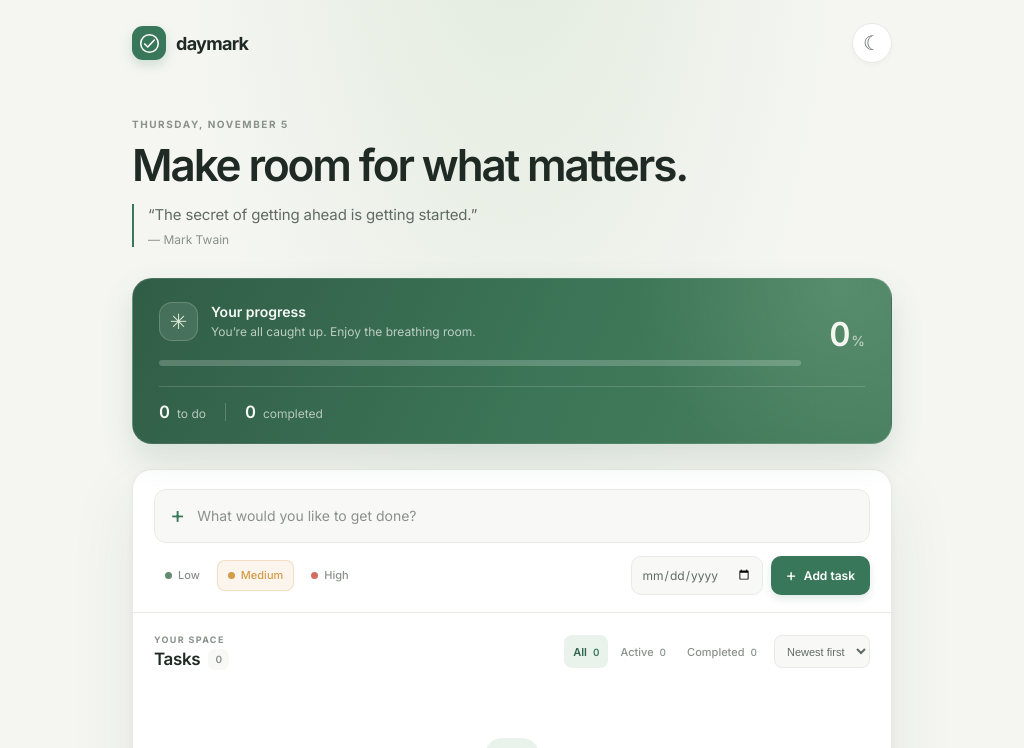
Test case: shows a new task immediately when adding from the completed filter
The width and height of the screenshot is (1024, 748).
Type "First task" into the field named "New task" at point(526, 516), box [197,492,854,539]
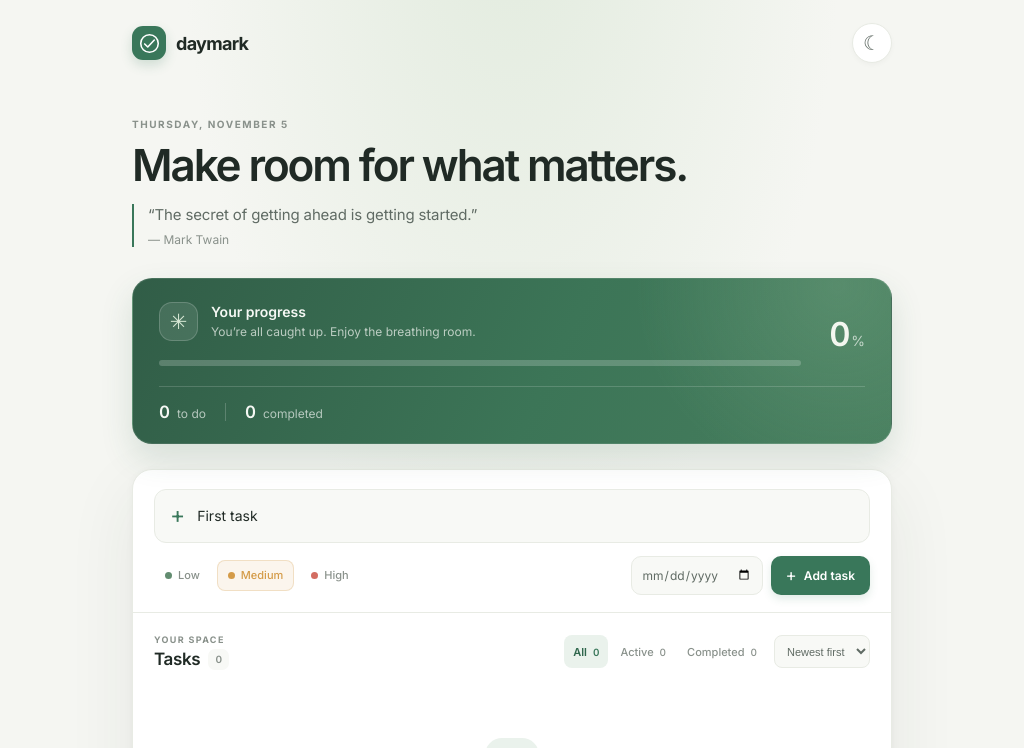
Click the button "+ Add task" at point(820, 575), box [771,556,870,595]
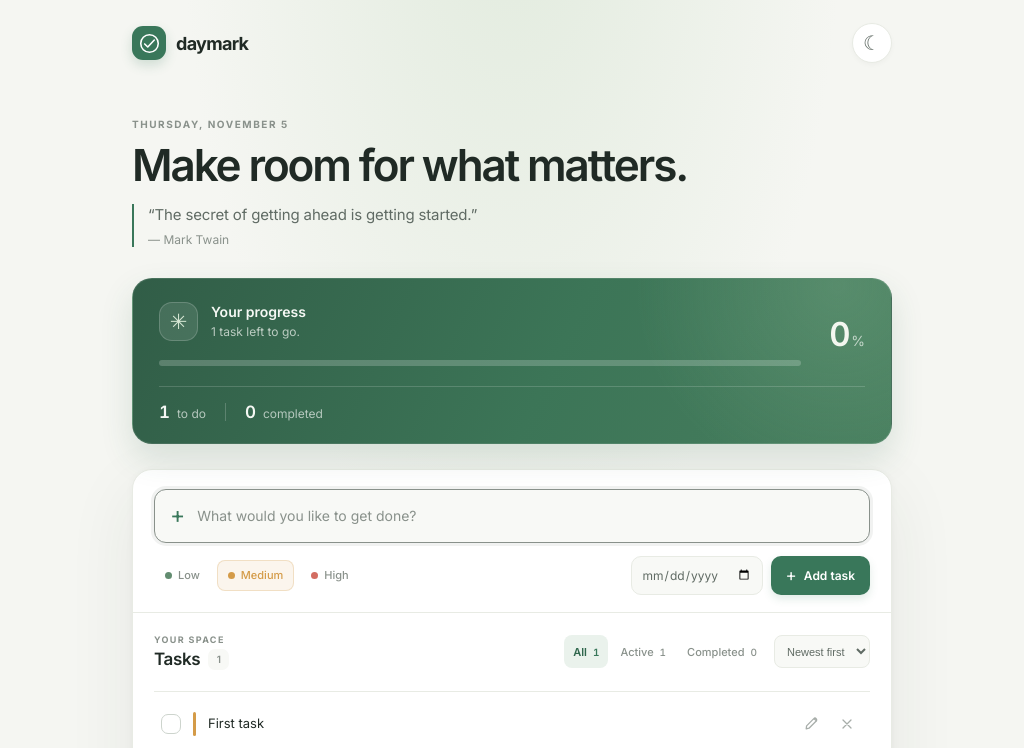
Click the button named "Complete First task" at point(171, 724), box [161,714,181,734]
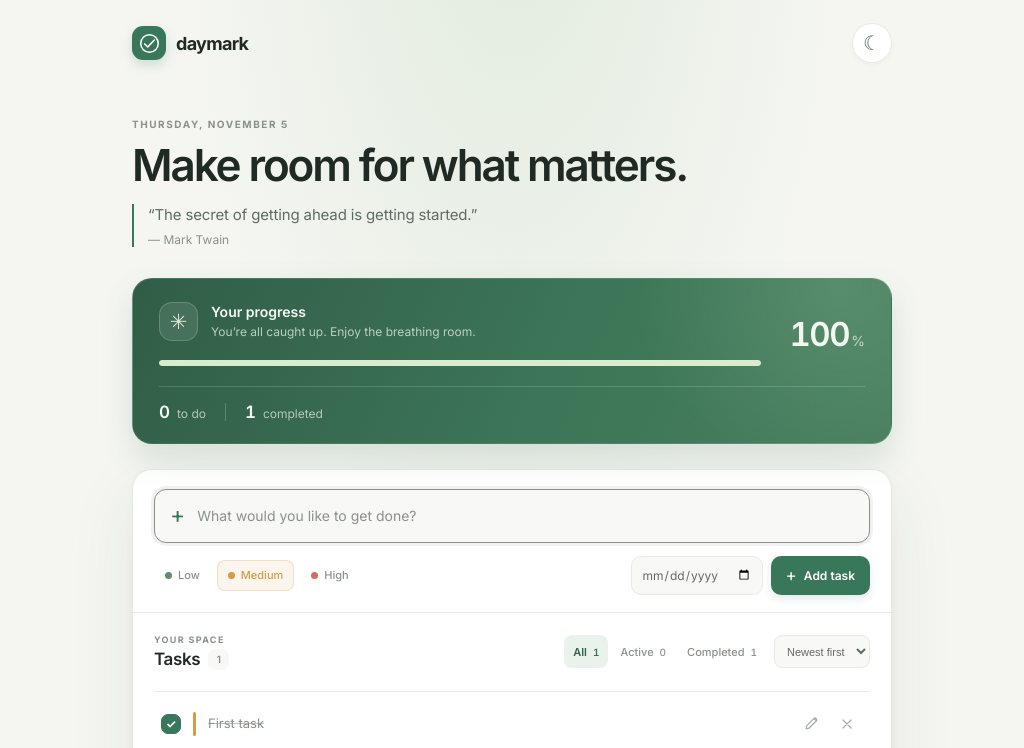
Click the button "Completed 1" at point(722, 652), box [678,635,766,668]
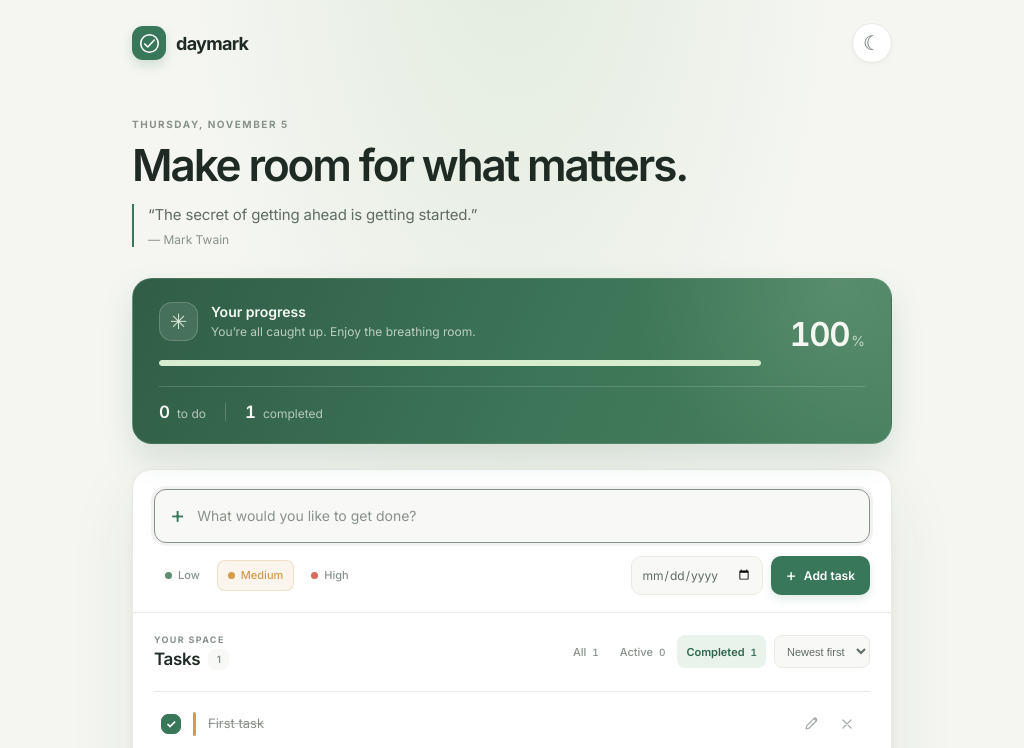
Type "A new task" into the field named "New task" at point(526, 516), box [197,492,854,539]
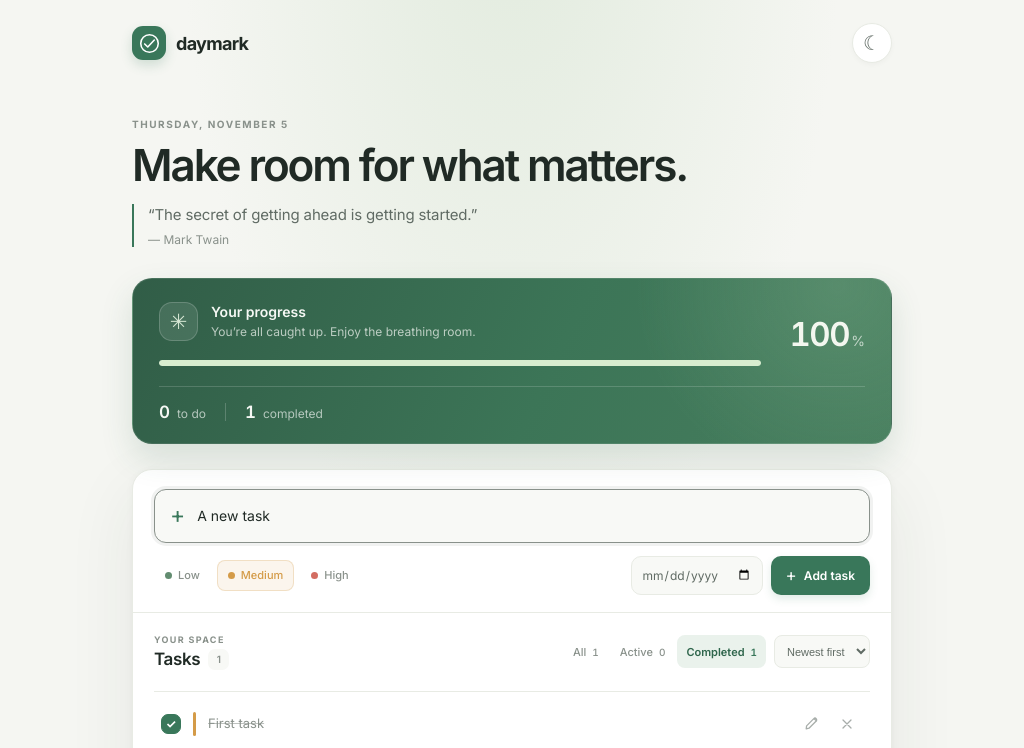
Click the button "+ Add task" at point(820, 575), box [771,556,870,595]
(page scrolled)
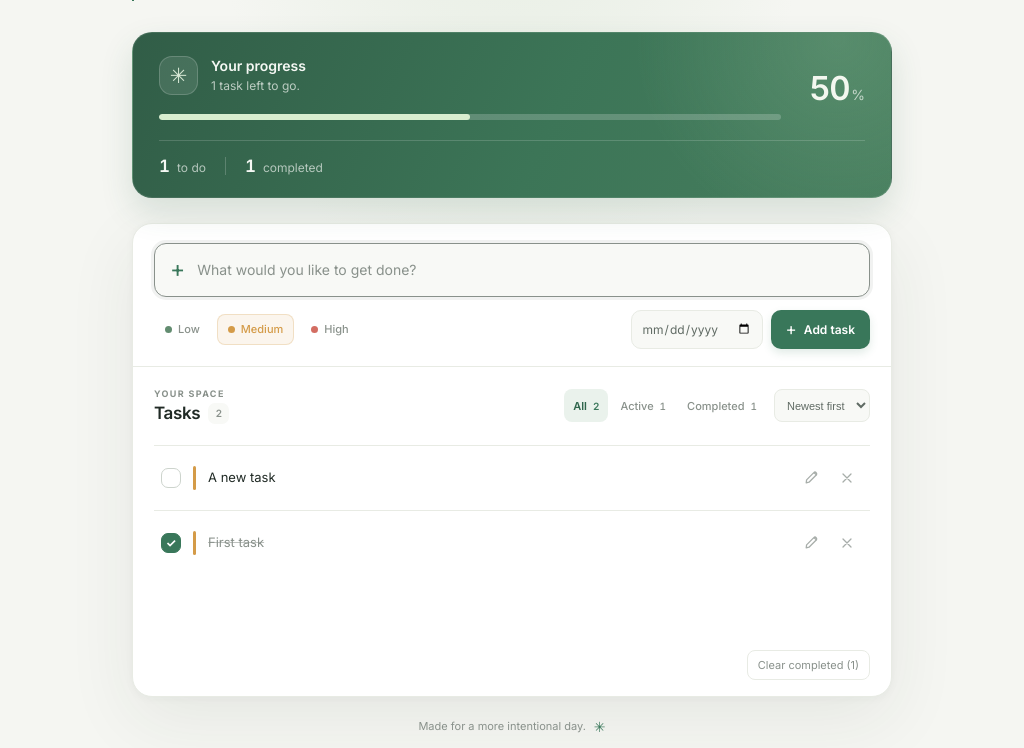
Expected: the text "First task" is shown, [208,533,264,552]
Expected: the text "A new task" is shown, [208,468,276,488]
